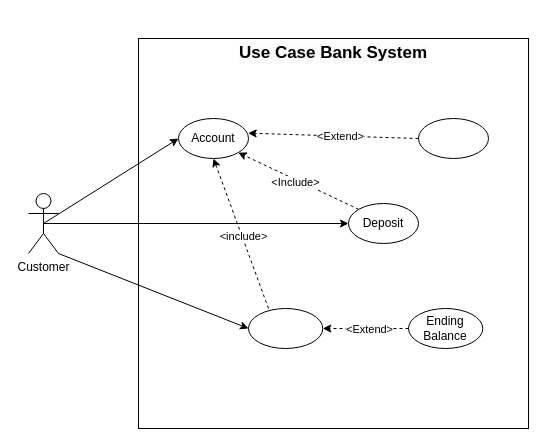
This 546x446 diagram has some shape labels left out. Here are the shapes that lost their labels. From the top down, the centre of each, then its label:
[453,138]: Balance
[285,328]: Withdraw
